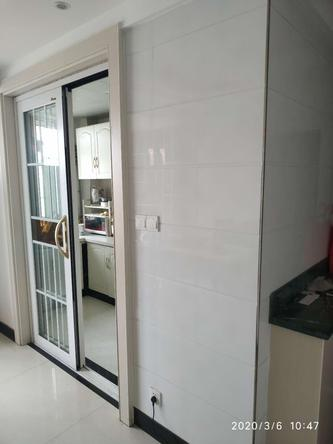switch: (146, 216, 160, 231), (134, 215, 146, 229)
